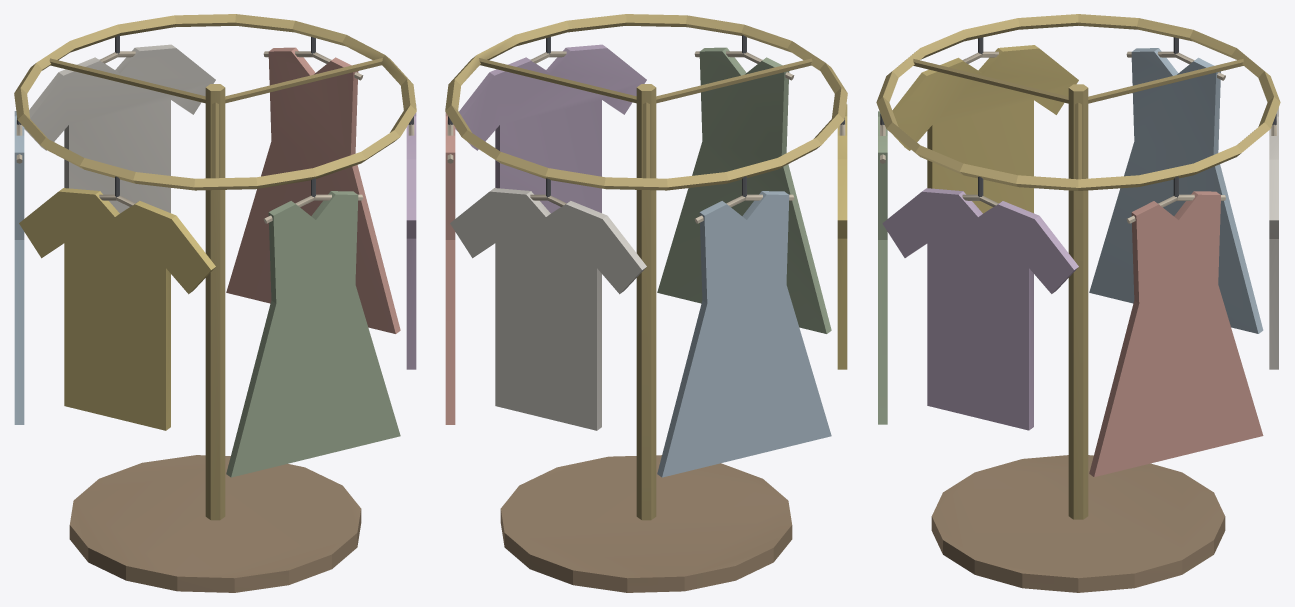
The model's file is wear_rack_round.glb.
The picture shows the model from 3 angles, left to right: view 1: azimuth 30°, elevation 25°; view 2: azimuth 150°, elevation 25°; view 3: azimuth 270°, elevation 25°; orthographic projection.
Visible parts, largest first — view 1: wear.rack_round; view 2: wear.rack_round; view 3: wear.rack_round.
Boxes of the visible parts, <box> form: wear.rack_round: <box>14,14,416,592</box>; wear.rack_round: <box>445,14,847,592</box>; wear.rack_round: <box>876,14,1280,592</box>.
Bounding box in the file's own units: 1.41 × 1.5 × 1.24.
